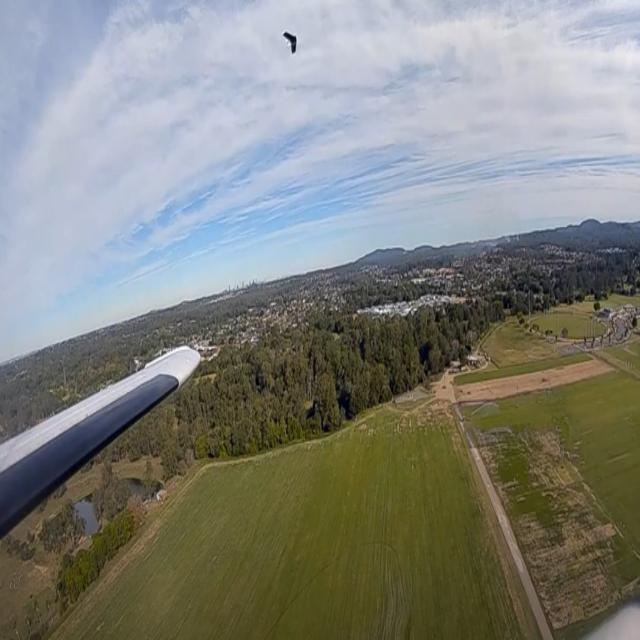iha: (281, 30, 298, 56)
